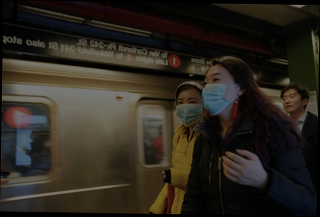with_mask: (200, 71, 236, 117), (174, 96, 203, 129)
without_mask: (281, 91, 302, 113)
